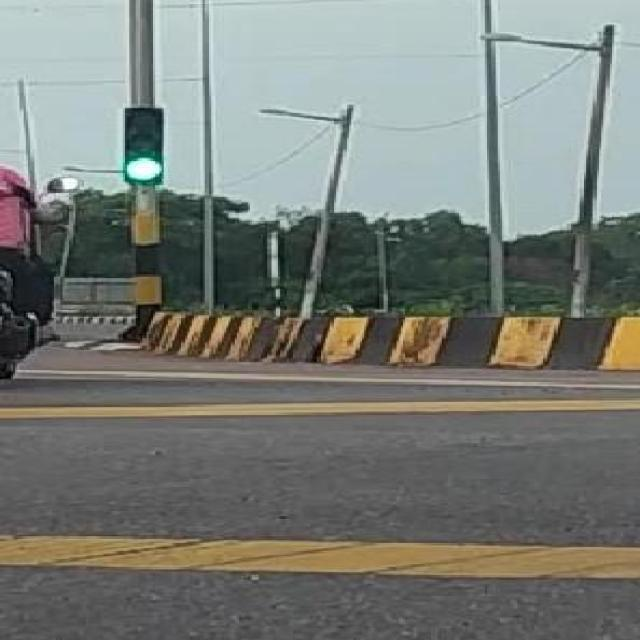green_light: (125, 105, 162, 181)
